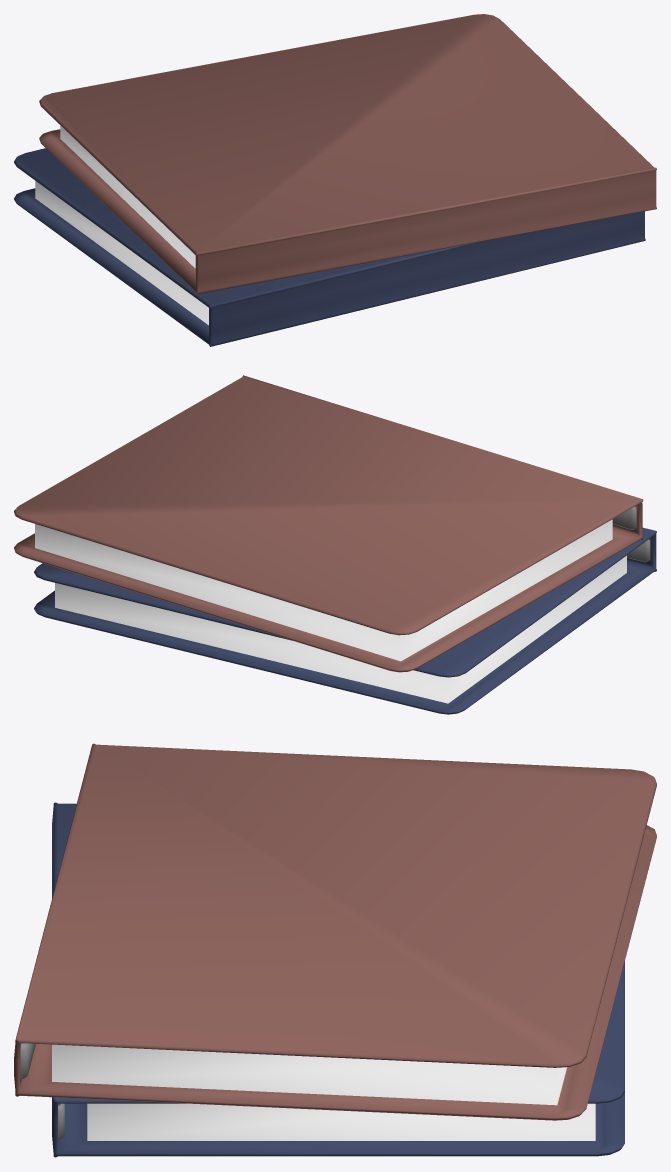
Rendered from folderStackSmall.fbx.
3 views of the same model, one above another, from view 1: azimuth 30°, elevation 25°; view 2: azimuth 150°, elevation 25°; view 3: azimuth 270°, elevation 25° (orthographic). The views are drawn at different scales.
Parts seen in each view (by area): view 1: Torus.005, Plane, Torus.003; view 2: Torus.005, Plane, Torus.003; view 3: Torus.005, Plane, Torus.003.
Boxes of the visible parts, x1,y1,x2,y2 form: Torus.005: (39,14,656,294); Plane: (14,148,645,345); Torus.003: (14,162,645,346); Torus.005: (14,375,643,672); Plane: (34,527,655,713); Torus.003: (36,531,656,714); Torus.005: (14,743,656,1120); Plane: (52,802,624,1157); Torus.003: (52,808,624,1157).
Size of the model in its own units: 34.51 by 5.87 by 29.25.
